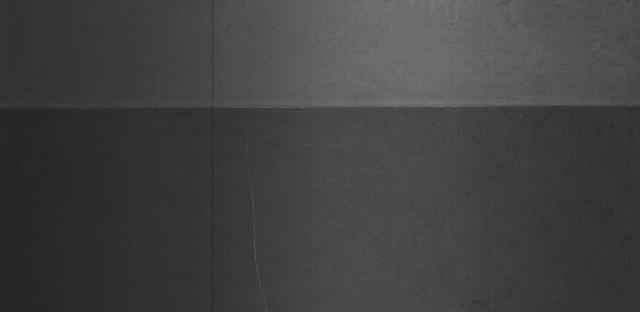welding_line: (3, 95, 640, 123)
